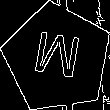M_S: (31, 29, 84, 87)
